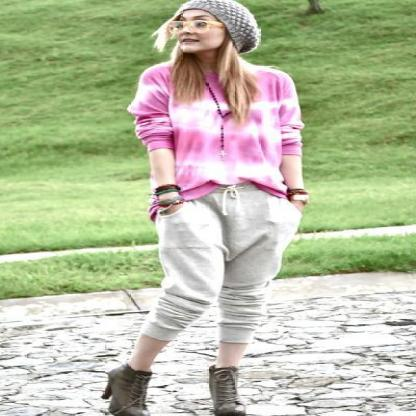hat: (187, 0, 260, 53)
jacket: (127, 58, 304, 196)
pants: (137, 178, 311, 346)
shoe: (121, 366, 264, 416)
